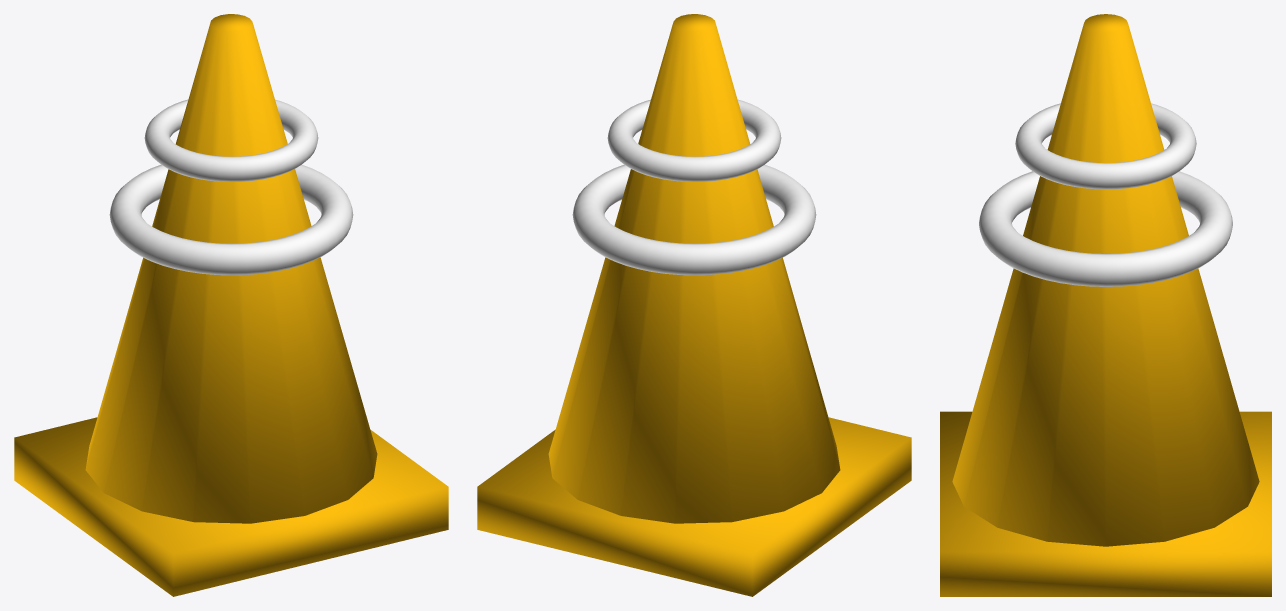
The model's file is mesh_traffic_cone.fbx.
3 views of the same model, side by side, from view 1: azimuth 30°, elevation 25°; view 2: azimuth 150°, elevation 25°; view 3: azimuth 270°, elevation 25° (orthographic). The views are drawn at different scales.
Visible parts, largest first — view 1: mesh_traffic_cone; view 2: mesh_traffic_cone; view 3: mesh_traffic_cone.
Part boxes in pixels (bbox=[...]): mesh_traffic_cone: bbox=[14, 14, 448, 596]; mesh_traffic_cone: bbox=[477, 14, 911, 596]; mesh_traffic_cone: bbox=[940, 14, 1271, 596].
Size of the model in its own units: 0.3 by 0.5025 by 0.3.
